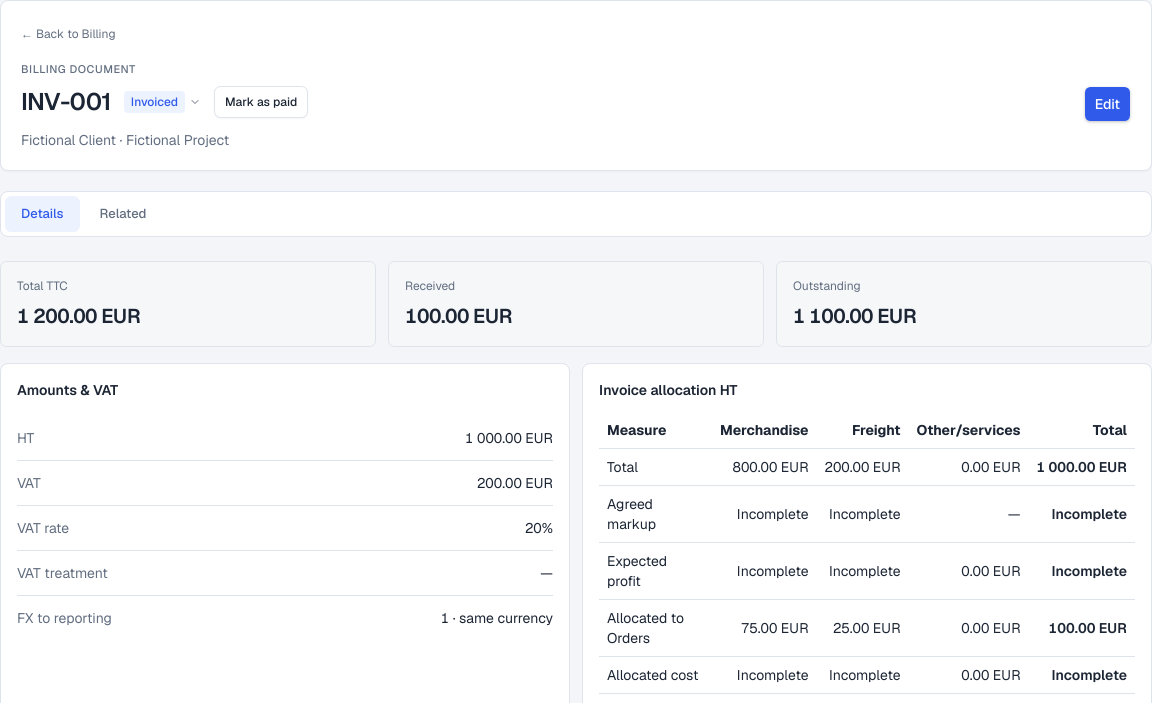
uses a confirmed Cancel Billing button and retains cancellation errors
Click the button "Invoiced" at (162, 102), box [123,86,202,118]
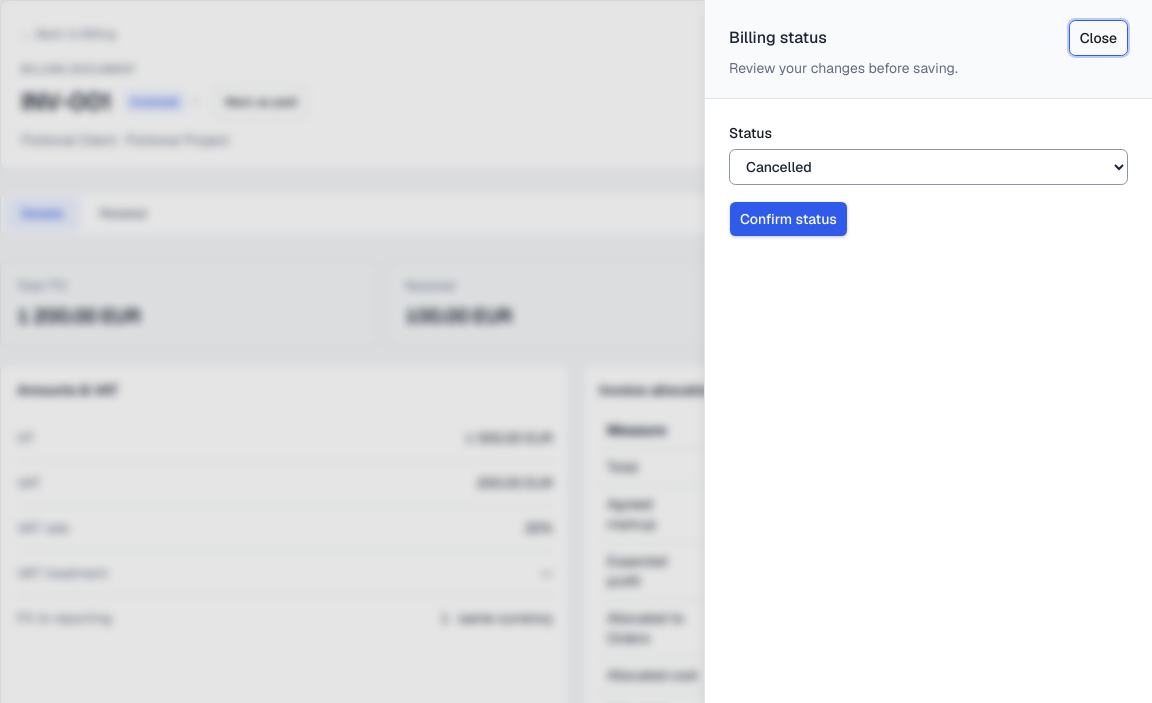
Select "Cancelled" in the dropdown labelled "Status" at (928, 167), box [729,149,1128,185]
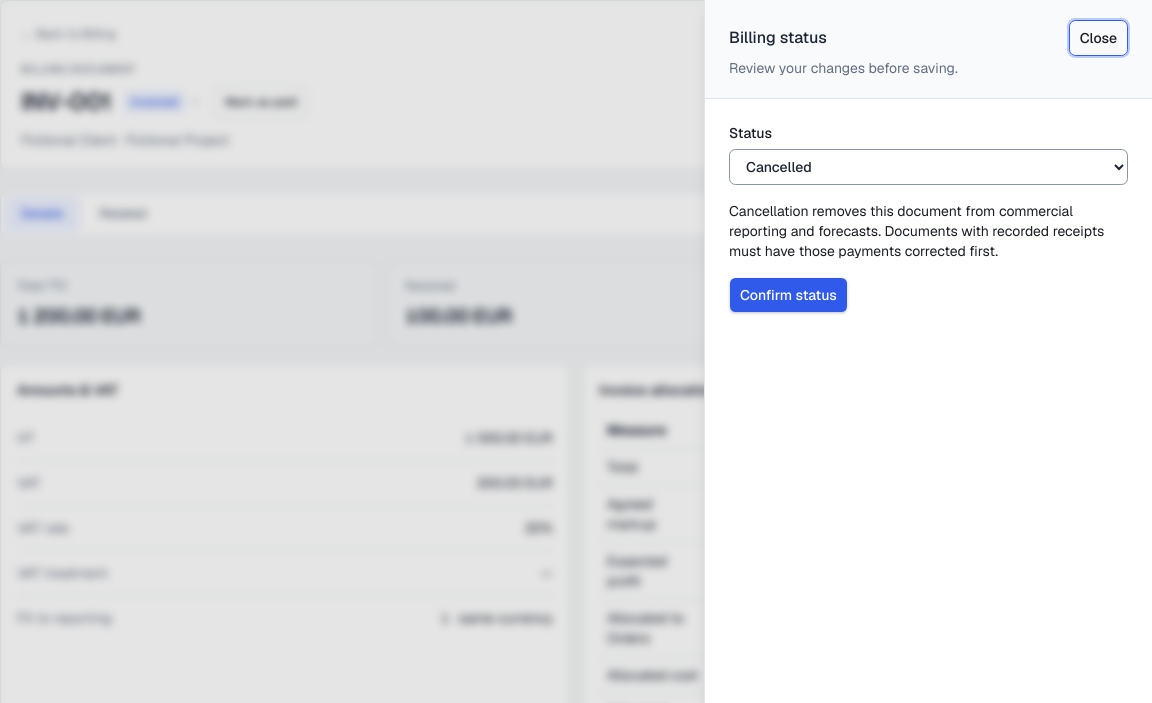
Click the button "Confirm status" at (788, 295), box [729,277,848,313]
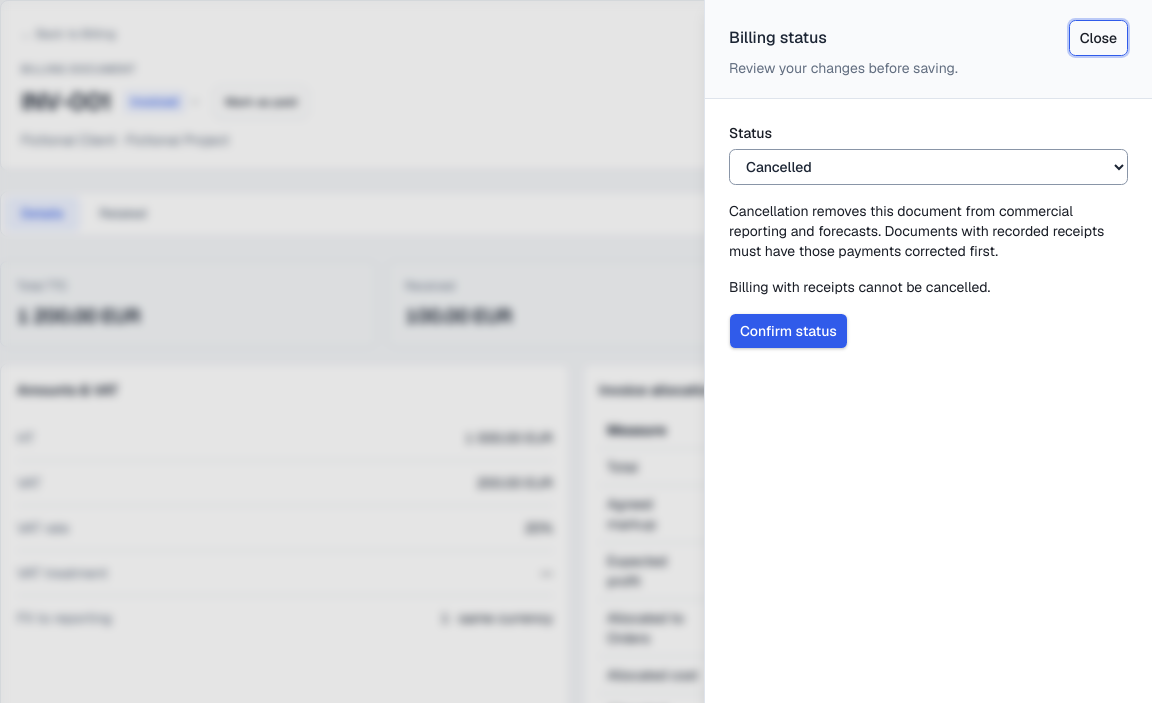
Result: the dialog shows "cannot be cancelled" at [729,278,990,296]
